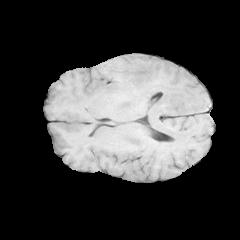glioma: (124, 65, 151, 89)
